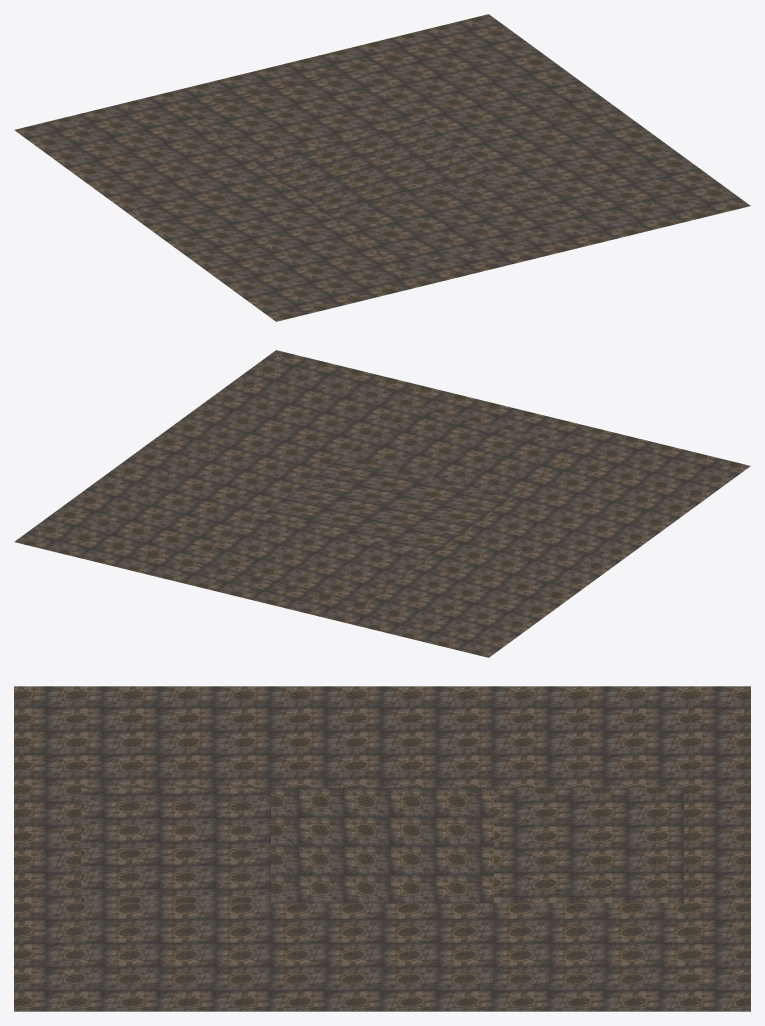
Rendered from terrain-echo-throne-floor.glb.
3 views of the same model, one above another, from view 1: azimuth 30°, elevation 25°; view 2: azimuth 150°, elevation 25°; view 3: azimuth 270°, elevation 25° (orthographic). The views are drawn at different scales.
Parts seen in each view (by area): view 1: terrain-echo-throne-apron-001, terrain-echo-throne-slab-005, terrain-echo-throne-slab-001, terrain-echo-throne-slab-003, terrain-echo-throne-slab-002, terrain-echo-throne-slab-004; view 2: terrain-echo-throne-apron-001, terrain-echo-throne-slab-005, terrain-echo-throne-slab-001, terrain-echo-throne-slab-003, terrain-echo-throne-slab-004, terrain-echo-throne-slab-002; view 3: terrain-echo-throne-apron-001, terrain-echo-throne-slab-005, terrain-echo-throne-slab-001, terrain-echo-throne-slab-003, terrain-echo-throne-slab-002, terrain-echo-throne-slab-004.
Boxes of the visible parts, box(x1,y1,x2,y2) form: terrain-echo-throne-apron-001: box(14, 14, 750, 321); terrain-echo-throne-slab-005: box(354, 41, 685, 226); terrain-echo-throne-slab-001: box(79, 111, 399, 294); terrain-echo-throne-slab-003: box(253, 119, 500, 218); terrain-echo-throne-slab-002: box(186, 70, 421, 160); terrain-echo-throne-slab-004: box(333, 178, 568, 268); terrain-echo-throne-apron-001: box(14, 350, 750, 657); terrain-echo-throne-slab-005: box(79, 377, 410, 562); terrain-echo-throne-slab-001: box(365, 447, 685, 630); terrain-echo-throne-slab-003: box(264, 455, 511, 554); terrain-echo-throne-slab-004: box(343, 406, 578, 496); terrain-echo-throne-slab-002: box(196, 514, 431, 604); terrain-echo-throne-apron-001: box(14, 686, 750, 1011); terrain-echo-throne-slab-005: box(81, 903, 683, 983); terrain-echo-throne-slab-001: box(81, 714, 683, 787); terrain-echo-throne-slab-003: box(271, 787, 493, 903); terrain-echo-throne-slab-002: box(494, 787, 683, 903); terrain-echo-throne-slab-004: box(81, 787, 270, 903).
Bounding box in the file's own units: 32.2 × 0.002 × 30.8.
6 materials, 6 textured.
